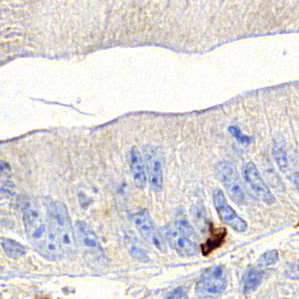Lymphocyte: (200, 226, 226, 254)
